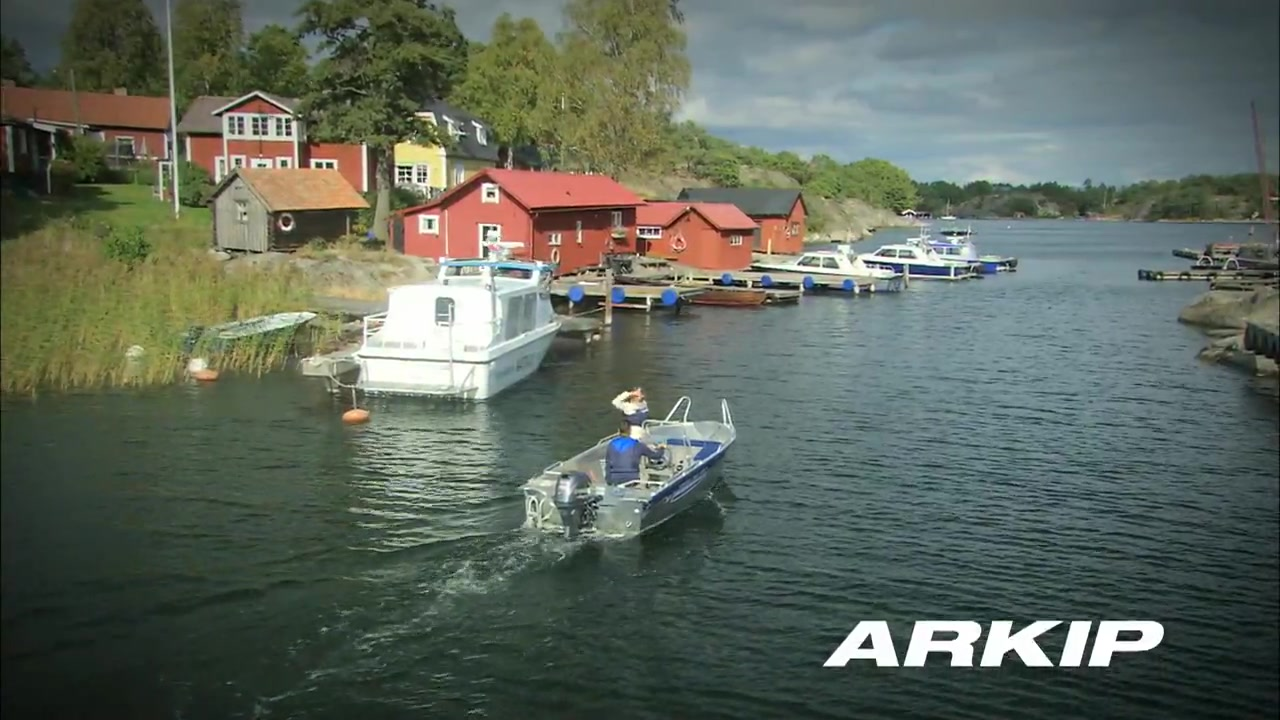boat: (521, 395, 742, 548)
